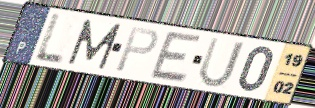0: (236, 45, 276, 94)
E: (147, 29, 205, 85)
L: (32, 12, 65, 66)
M: (65, 17, 124, 71)
P: (113, 26, 161, 74)
U: (195, 35, 246, 89)
